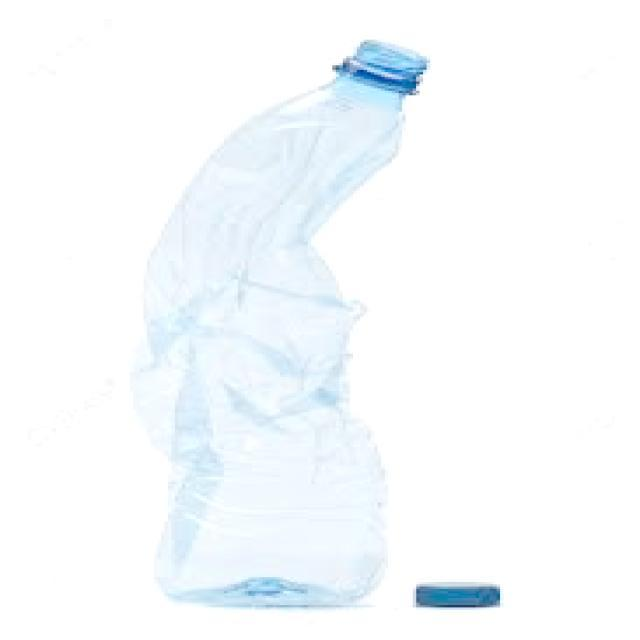BIODEGRADABLE: (122, 29, 504, 605)
